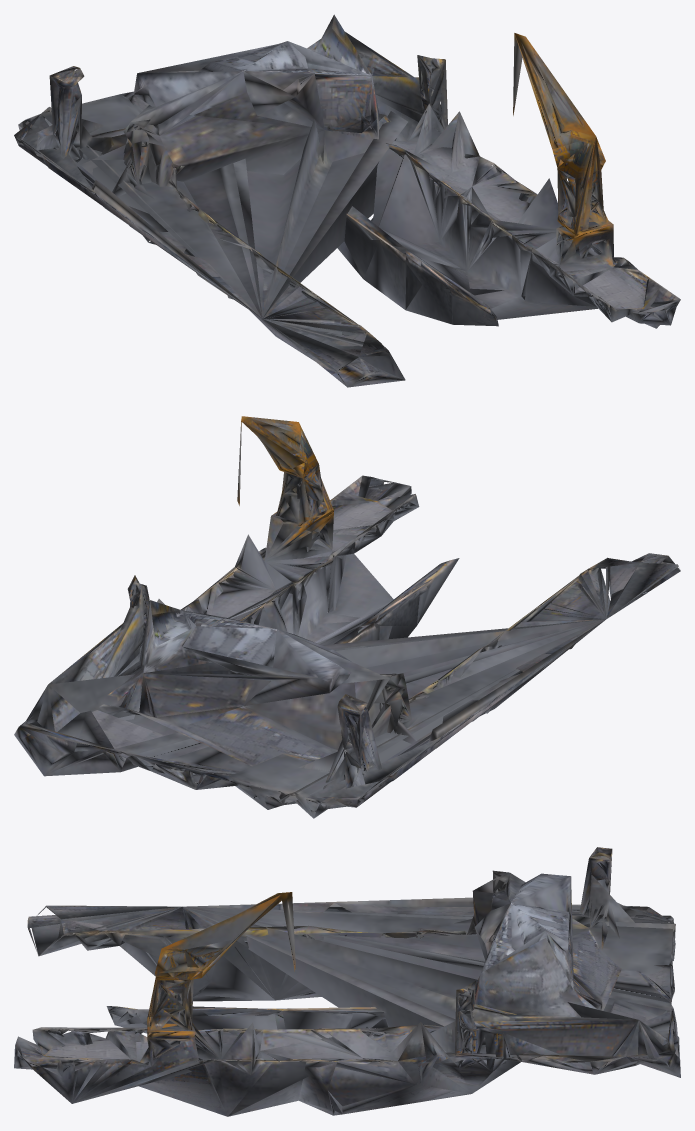
File: industrial_facility_3d_model.fbx
The picture shows the model from 3 angles, top to bottom: view 1: azimuth 30°, elevation 25°; view 2: azimuth 150°, elevation 25°; view 3: azimuth 270°, elevation 25°; orthographic projection. The views are drawn at different scales.
Visible parts, largest first — view 1: tripo_node_d0ec5540; view 2: tripo_node_d0ec5540; view 3: tripo_node_d0ec5540.
Boxes of the visible parts, box(x1,y1,x2,y2) form: tripo_node_d0ec5540: box(14, 14, 680, 387); tripo_node_d0ec5540: box(14, 416, 680, 818); tripo_node_d0ec5540: box(14, 847, 680, 1116).
Size of the model in its own units: 0.5544 by 0.3677 by 1.
